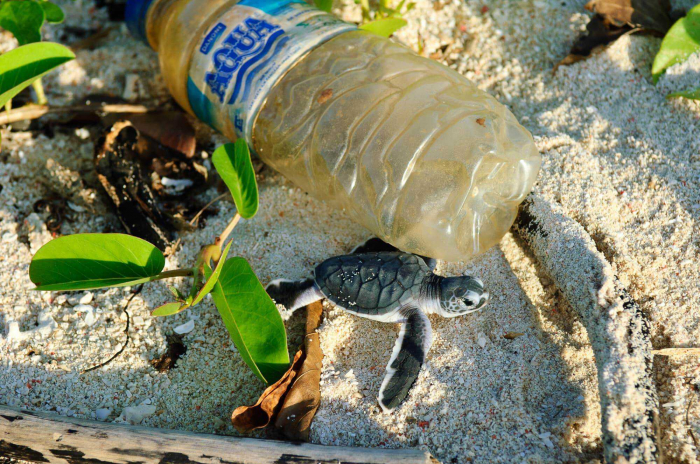plastic_bottle: (74, 1, 600, 352)
